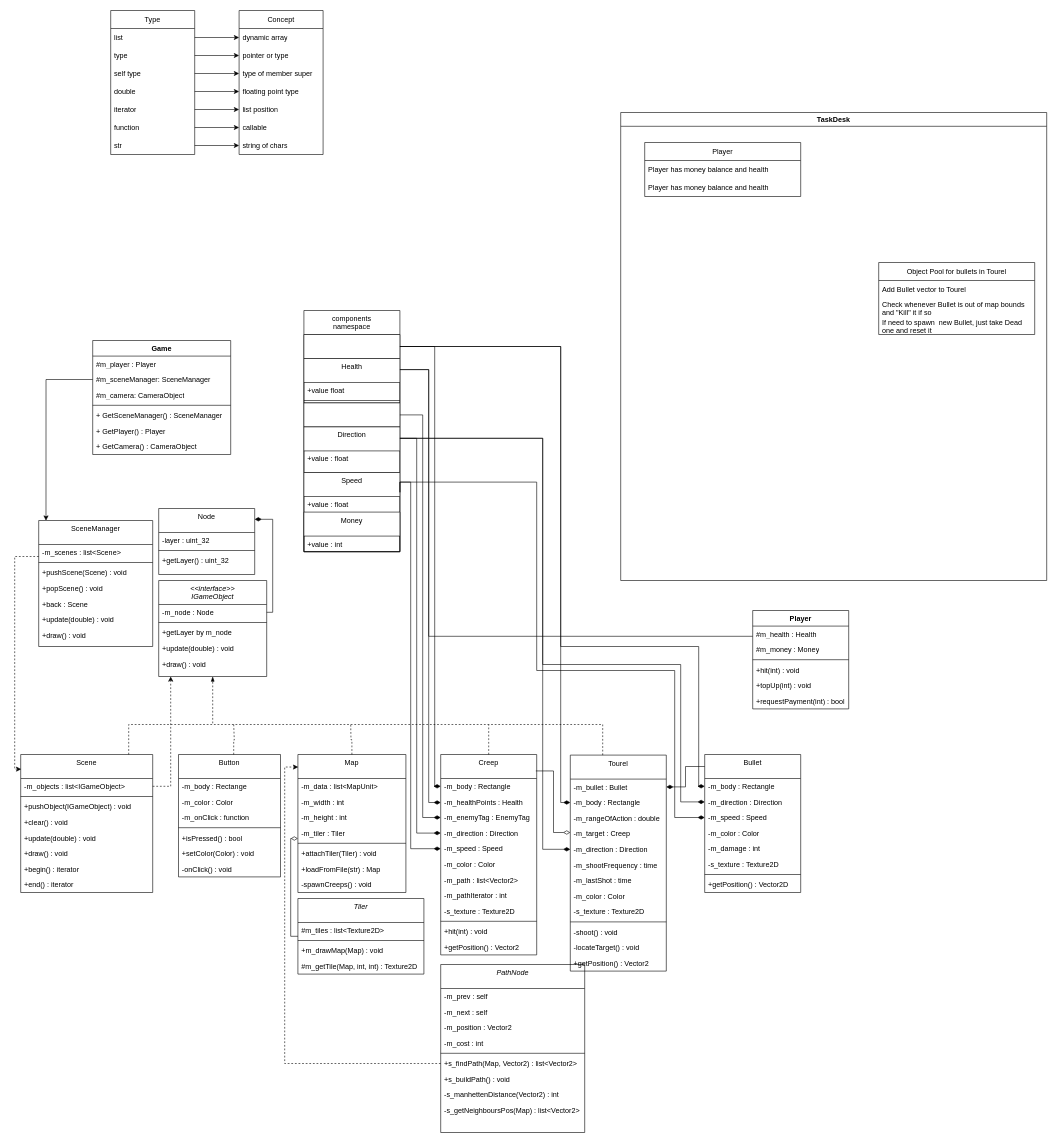
Some shapes in this 1057 by 1143 pixel diagram are drawn without their labels. Here are the shapes that lost their labels. From the top down, the centre of each, then its label:
At point (351, 346): "Body typedef Rectangle".
At point (351, 414): "EnemyTag".
